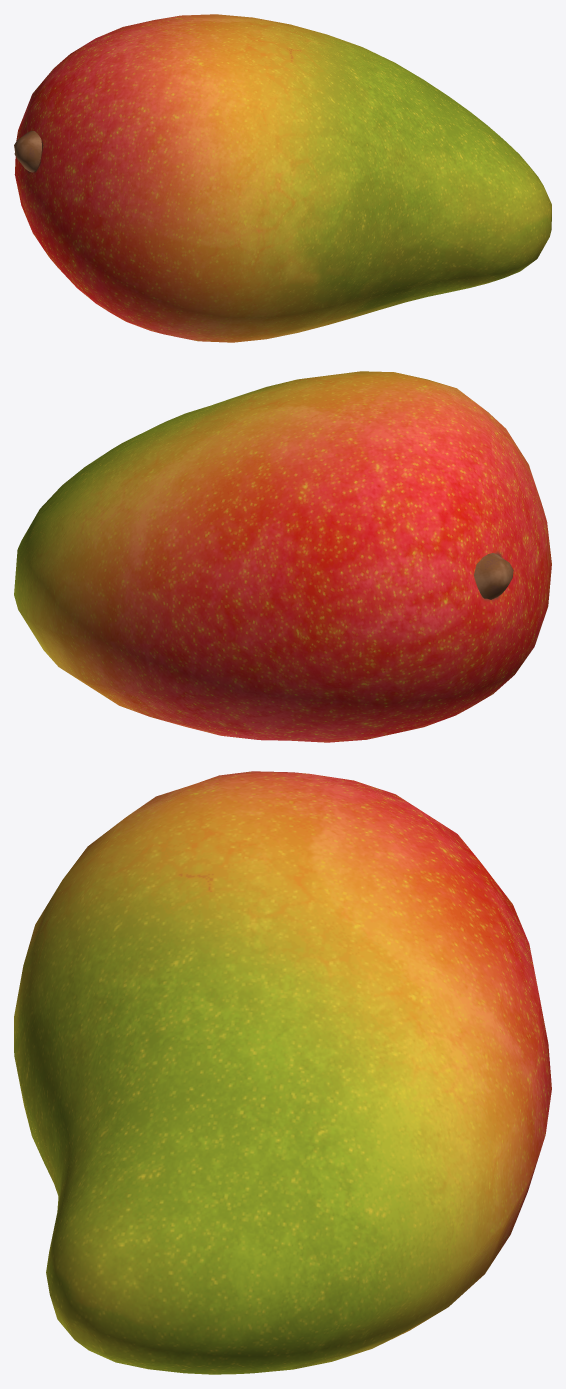
3 views of the same model, one above another, from view 1: azimuth 30°, elevation 25°; view 2: azimuth 150°, elevation 25°; view 3: azimuth 270°, elevation 25° (orthographic). The views are drawn at different scales.
Visible parts, largest first — view 1: Mango; view 2: Mango; view 3: Mango.
Boxes of the visible parts, bbox=[...] form: Mango: bbox=[14, 14, 551, 342]; Mango: bbox=[14, 371, 551, 742]; Mango: bbox=[14, 771, 551, 1374].
Bounding box in the file's own units: 0.0411 × 0.0257 × 0.0291.
1 material, 1 textured.
